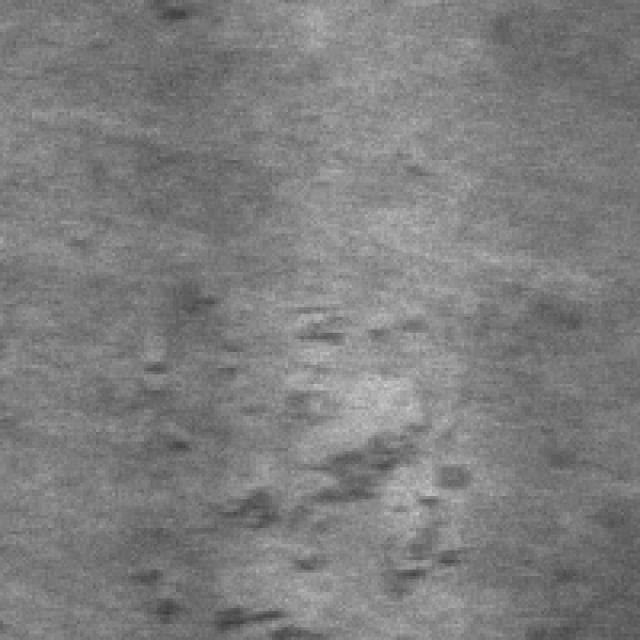rolled-in_scale: (141, 288, 541, 592), (118, 563, 490, 637)
